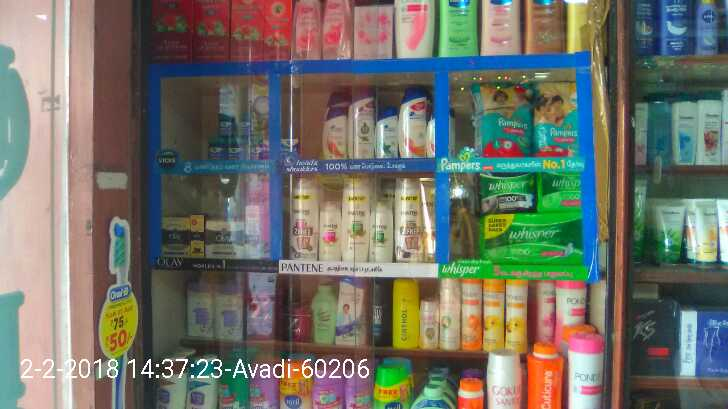vicks: (206, 112, 268, 158)
